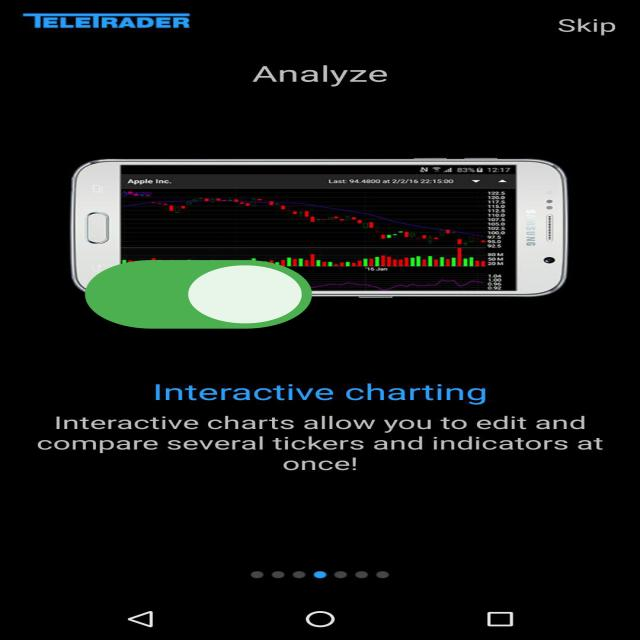social proof: (75, 234, 322, 360)
